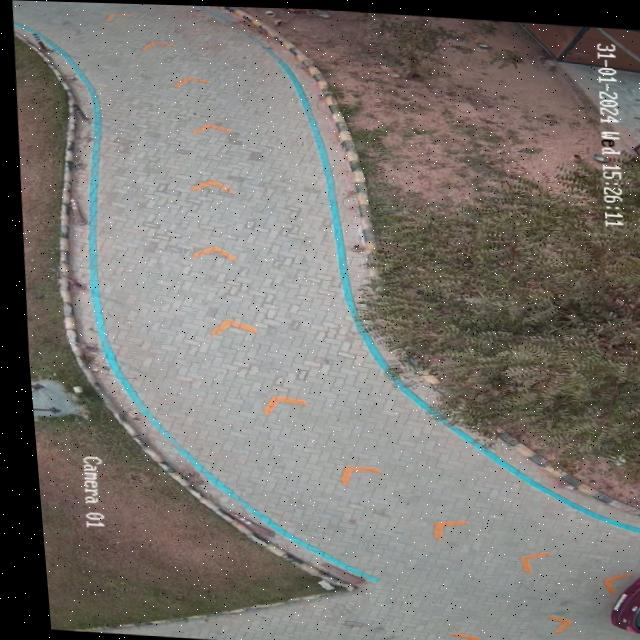car: (601, 569, 640, 631)
